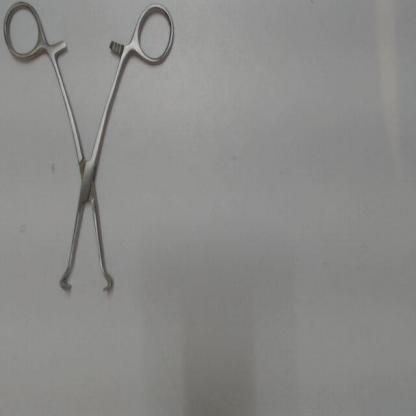Babcock Tissue Forceps: (0, 2, 176, 298)
